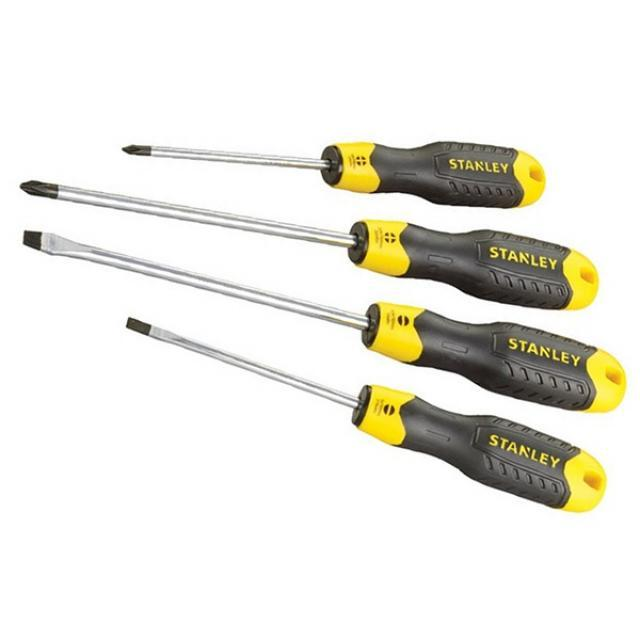screwdriver: (21, 225, 628, 419), (116, 309, 611, 517), (11, 173, 598, 310), (119, 138, 553, 209)
